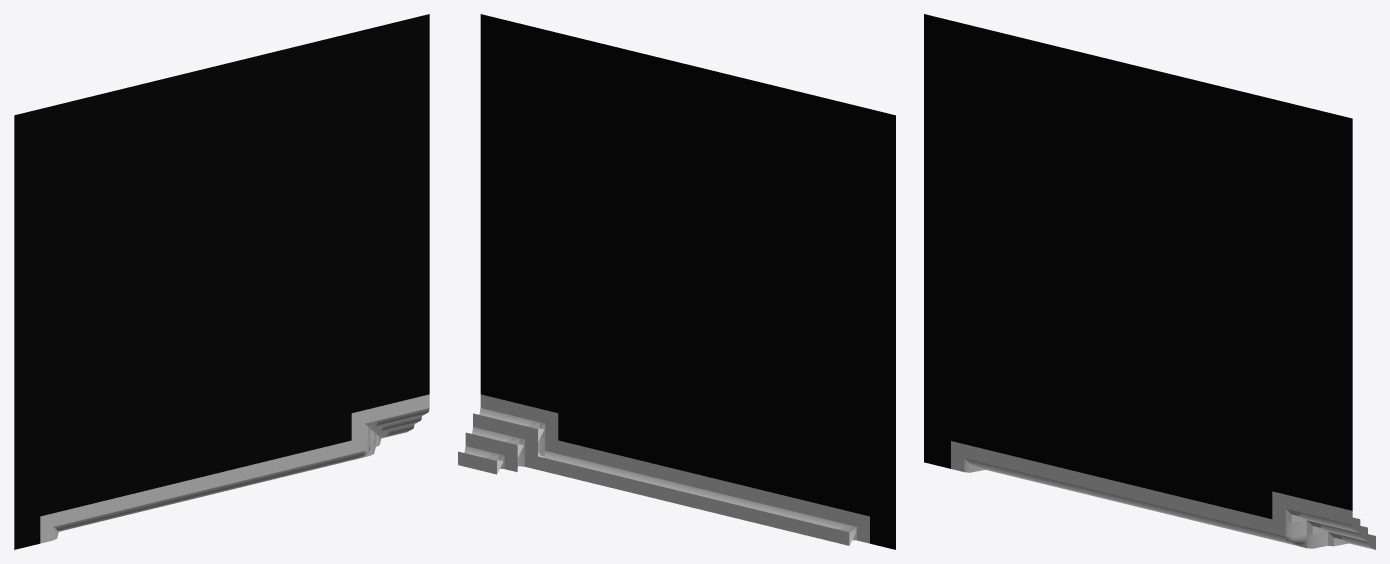
File: Voltic-Cave_00_00.obj
3 views of the same model, side by side, from view 1: azimuth 30°, elevation 25°; view 2: azimuth 150°, elevation 25°; view 3: azimuth 330°, elevation 25° (orthographic). The views are drawn at different scales.
Visible parts, largest first — view 1: map; view 2: map; view 3: map.
Part boxes in pixels (x1,y1,x2,y2): map: (14, 14, 429, 549); map: (458, 14, 895, 549); map: (924, 14, 1375, 549).
Bounding box in the file's own units: 32 × 32 × 3.
